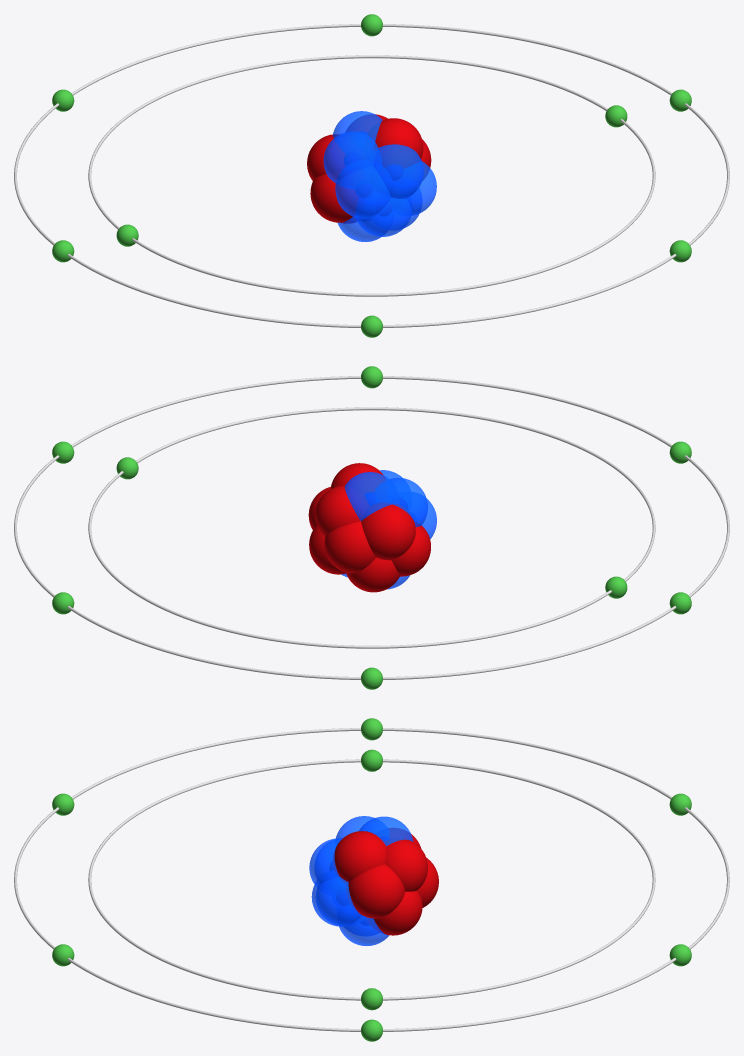
The model's file is Oxygen.glb.
The picture shows the model from 3 angles, top to bottom: view 1: azimuth 30°, elevation 25°; view 2: azimuth 150°, elevation 25°; view 3: azimuth 270°, elevation 25°; orthographic projection.
Parts seen in each view (by area): view 1: element_008_oxygen_nucleus, oxygen orbital 1.004, oxygen orbital 1; view 2: element_008_oxygen_nucleus, oxygen orbital 1.004, oxygen orbital 1; view 3: element_008_oxygen_nucleus, oxygen orbital 1.004, oxygen orbital 1.
Boxes of the visible parts, x1,y1,x2,y2 form: element_008_oxygen_nucleus: [307, 111, 436, 241]; oxygen orbital 1.004: [14, 14, 729, 337]; oxygen orbital 1: [88, 55, 655, 296]; element_008_oxygen_nucleus: [308, 463, 436, 592]; oxygen orbital 1.004: [14, 366, 729, 689]; oxygen orbital 1: [88, 407, 655, 648]; element_008_oxygen_nucleus: [309, 816, 438, 946]; oxygen orbital 1.004: [14, 718, 729, 1041]; oxygen orbital 1: [88, 749, 655, 1010].
Size of the model in its own units: 0.9888 by 0.1742 by 0.9628.
